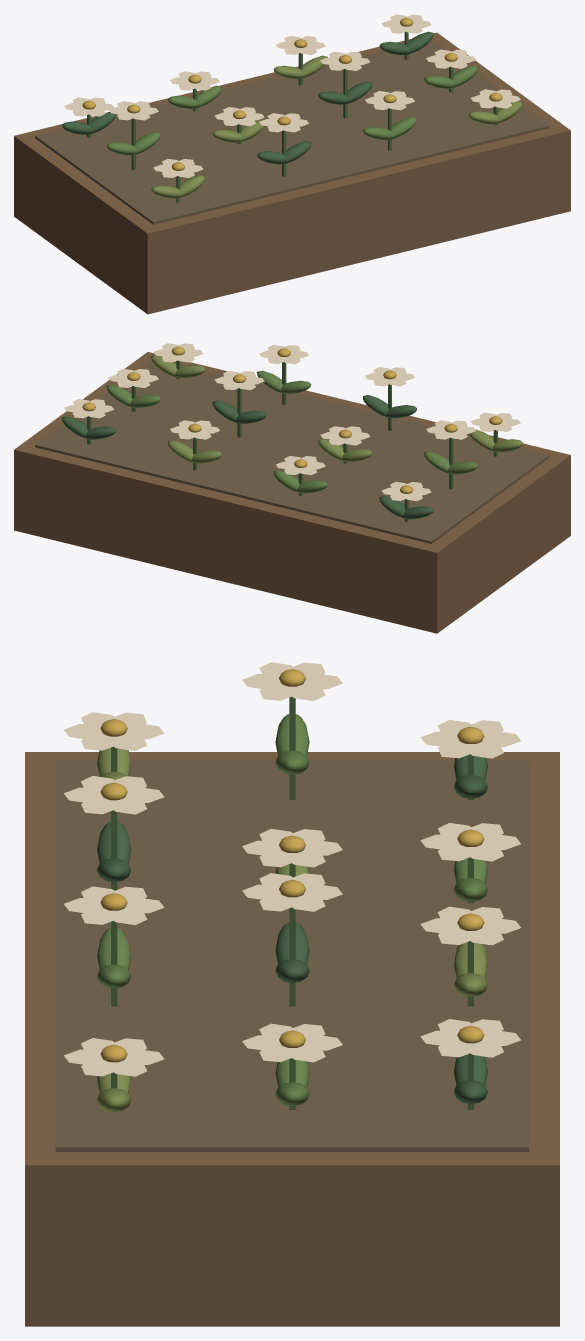
3 renders of one model, top to bottom at view 1: azimuth 30°, elevation 25°; view 2: azimuth 150°, elevation 25°; view 3: azimuth 270°, elevation 25°, orthographic. The views are drawn at different scales.
Visible parts, largest first — view 1: 화단 09, climb-flowers-8-0; view 2: 화단 09, climb-flowers-8-0; view 3: 화단 09, climb-flowers-8-0.
Boxes of the visible parts, <box> form: 화단 09: <box>35,14,549,224</box>; climb-flowers-8-0: <box>14,32,570,314</box>; 화단 09: <box>35,343,549,543</box>; climb-flowers-8-0: <box>14,352,570,633</box>; 화단 09: <box>55,662,529,1151</box>; climb-flowers-8-0: <box>25,752,559,1326</box>.
Size of the model in its own units: 2.85 by 0.948 by 1.56.
